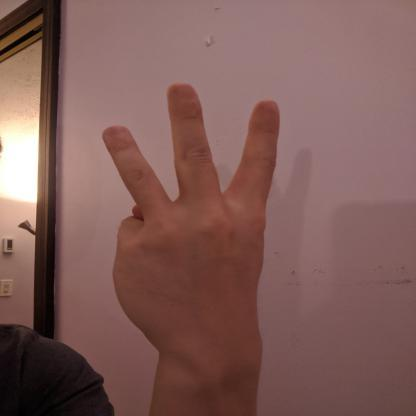W: (96, 77, 287, 358)
